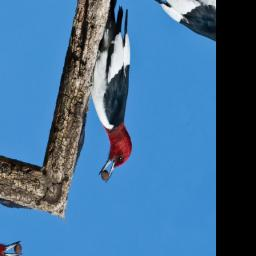Woodpecker: (49, 0, 178, 189)
